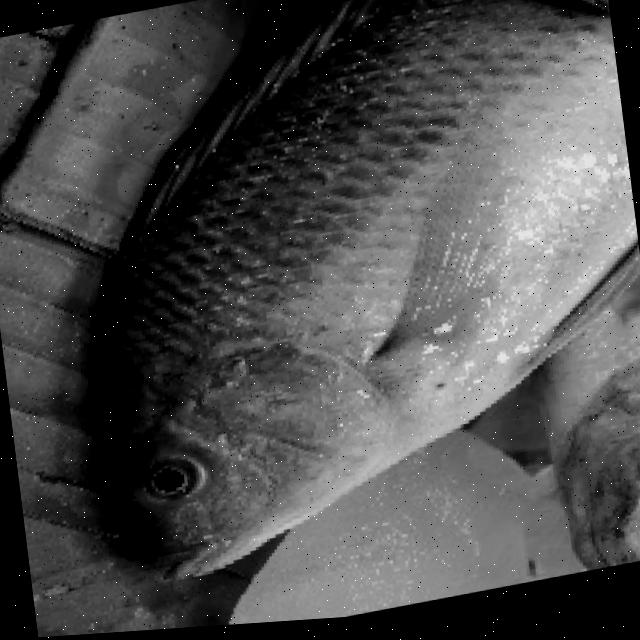Fresh: (34, 0, 640, 595)
